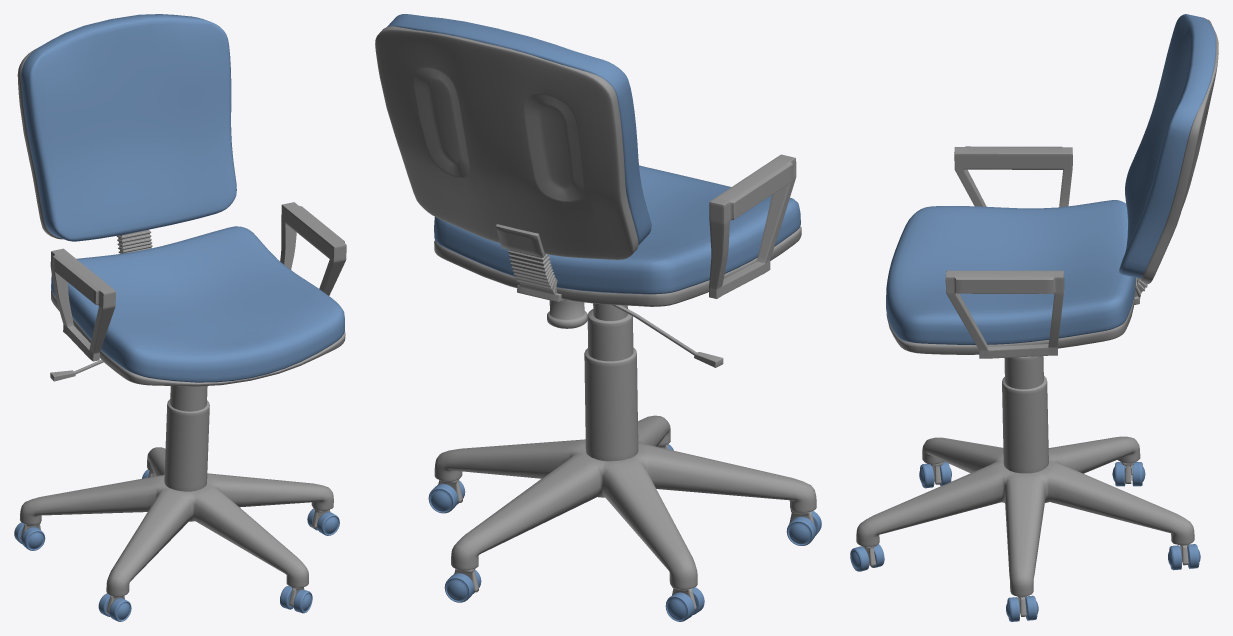
The model's file is Stuhl.fbx.
3 views of the same model, side by side, from view 1: azimuth 30°, elevation 25°; view 2: azimuth 150°, elevation 25°; view 3: azimuth 270°, elevation 25° (orthographic). The views are drawn at different scales.
Visible parts, largest first — view 1: Office_chair:Office_chair; view 2: Office_chair:Office_chair; view 3: Office_chair:Office_chair.
Part boxes in pixels (left/top/right/bottom): Office_chair:Office_chair: left=14, top=14, right=346, bottom=621; Office_chair:Office_chair: left=375, top=14, right=821, bottom=621; Office_chair:Office_chair: left=850, top=14, right=1218, bottom=621.
Bounding box in the file's own units: 1.9 × 3.2 × 2.1.
